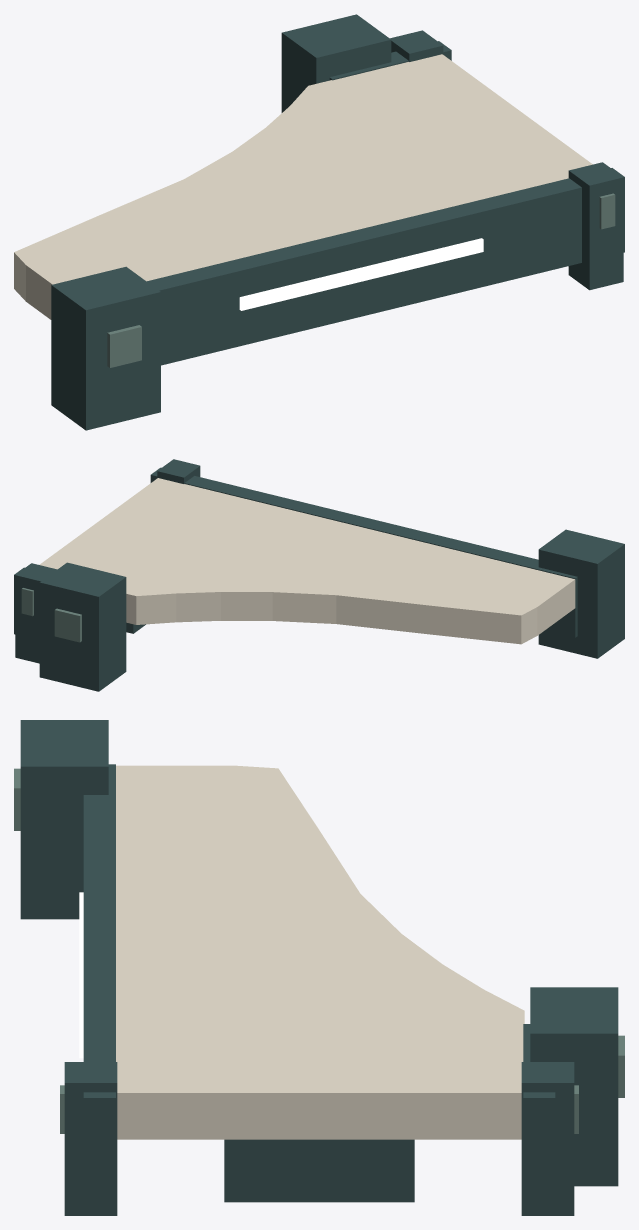
The model's file is Pier_Angled_80_lab.glb.
The picture shows the model from 3 angles, top to bottom: view 1: azimuth 30°, elevation 25°; view 2: azimuth 150°, elevation 25°; view 3: azimuth 270°, elevation 25°; orthographic projection. The views are drawn at different scales.
Visible parts, largest first — view 1: Pier_Angled_80; view 2: Pier_Angled_80; view 3: Pier_Angled_80.
Part boxes in pixels (bbox=[...]): Pier_Angled_80: bbox=[14, 14, 624, 430]; Pier_Angled_80: bbox=[14, 459, 624, 691]; Pier_Angled_80: bbox=[14, 720, 624, 1215].
Size of the model in its own units: 5.64 by 1.15 by 4.17.
